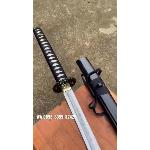Pedang: (33, 24, 99, 150)
